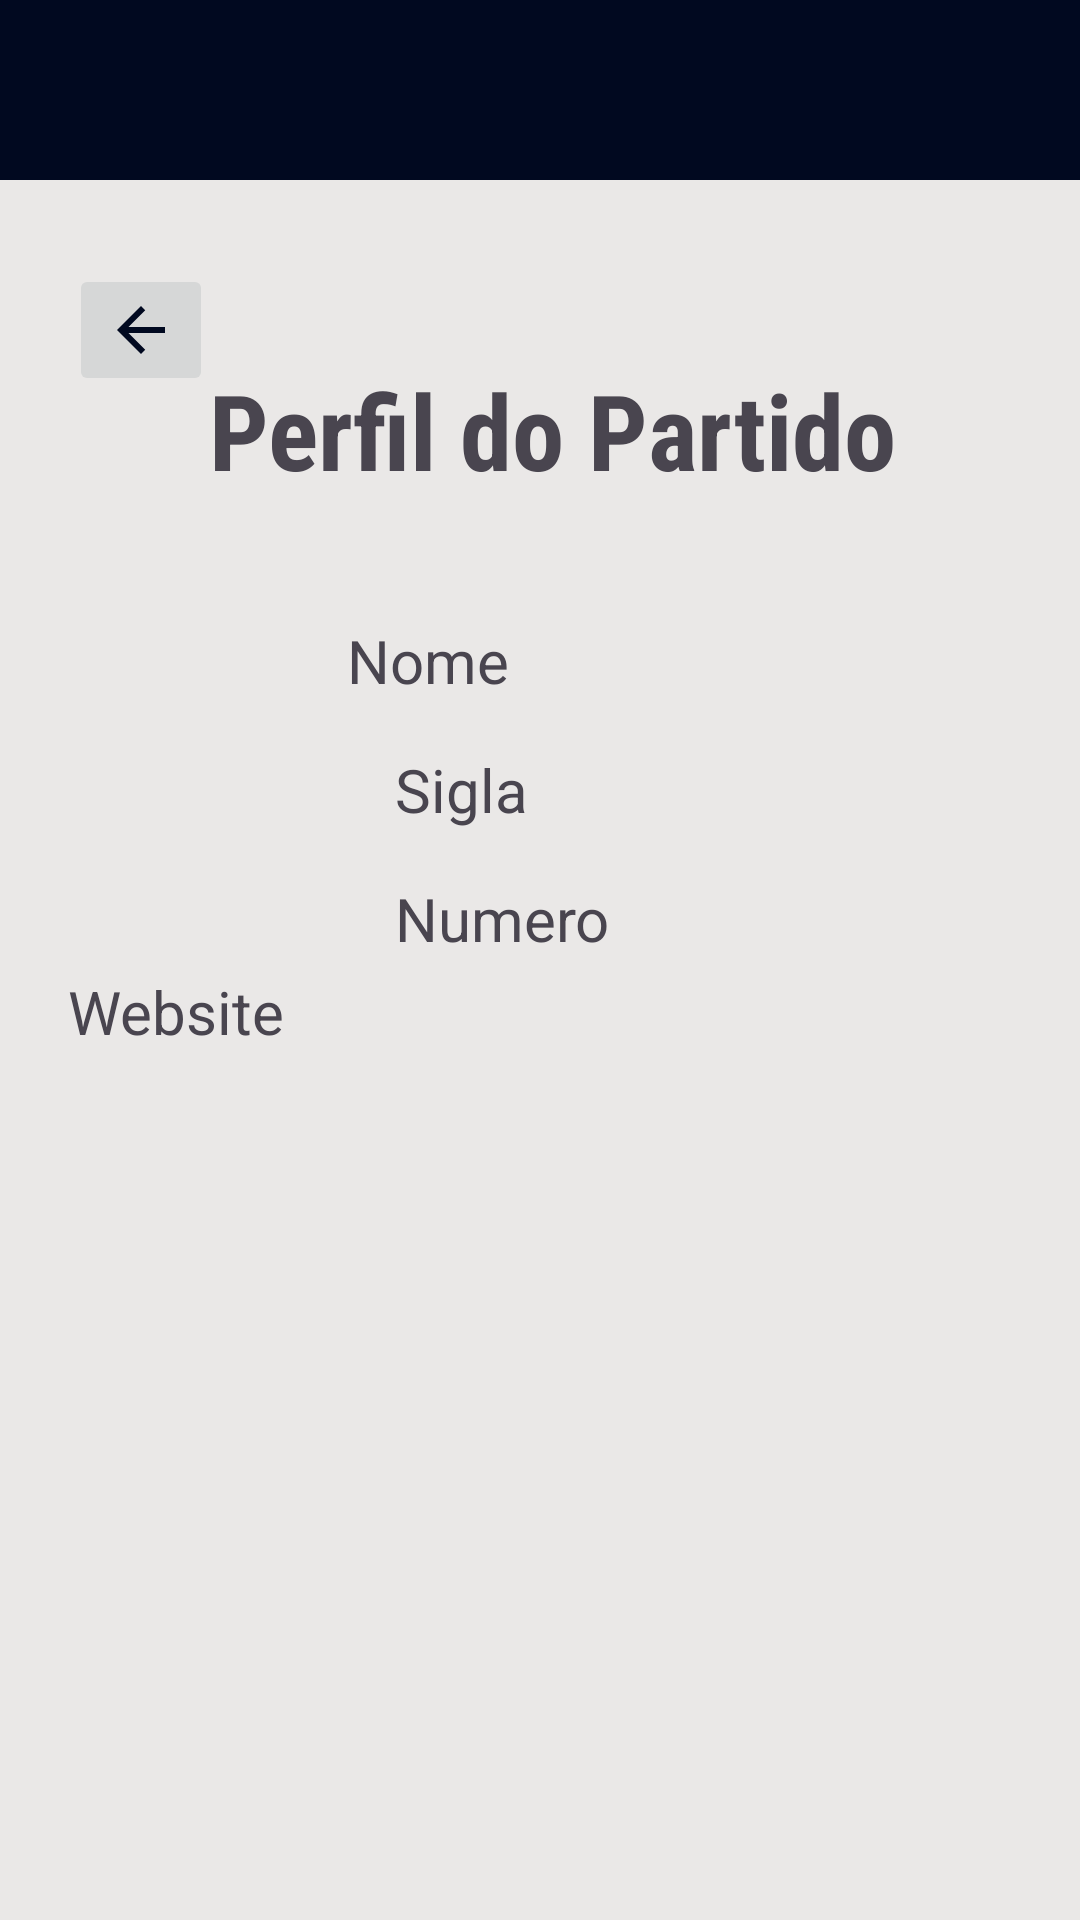

Icons on this 1080×1920 Android screen, each with its box as (x1, y1, x2, y2):
arrow back: (81, 282, 201, 378)
